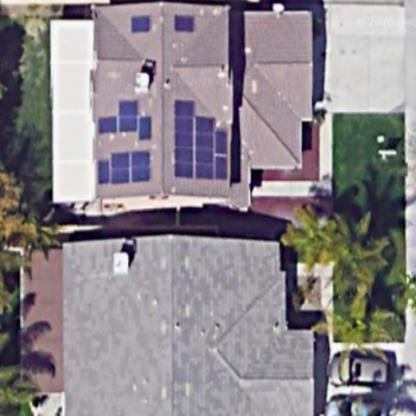car: (323, 346, 394, 390), (319, 394, 394, 416)
solar_panel: (175, 93, 232, 190), (94, 94, 161, 140), (100, 145, 155, 187), (169, 9, 199, 37), (131, 9, 156, 39)
